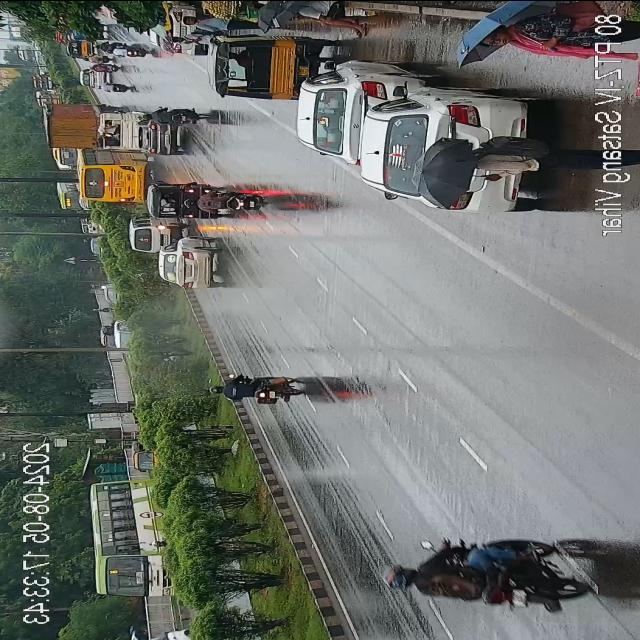2-wheelers: (388, 542, 584, 616), (218, 372, 305, 404), (198, 188, 256, 214), (148, 108, 208, 124)
auto: (221, 36, 309, 101), (148, 184, 216, 218), (133, 440, 163, 476)
bus: (88, 477, 178, 596), (85, 151, 146, 203)
car: (367, 87, 528, 197), (300, 59, 406, 160), (166, 240, 222, 292), (132, 220, 172, 252), (139, 117, 173, 153), (112, 320, 130, 354), (158, 628, 198, 640)
pedestrian: (448, 146, 595, 181), (472, 12, 578, 54), (290, 0, 370, 32), (178, 18, 258, 32)
truck: (53, 103, 119, 151)
